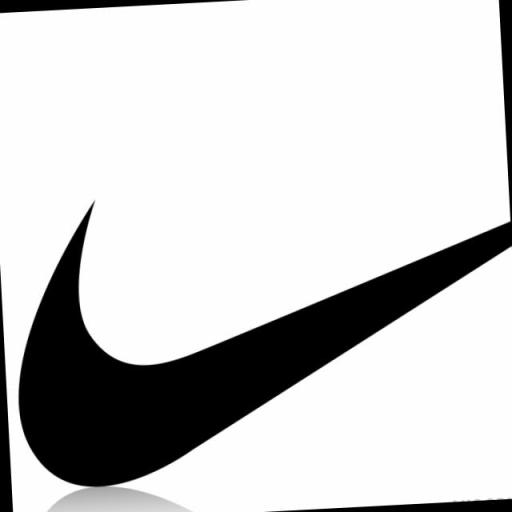Nike: (10, 185, 512, 490)
